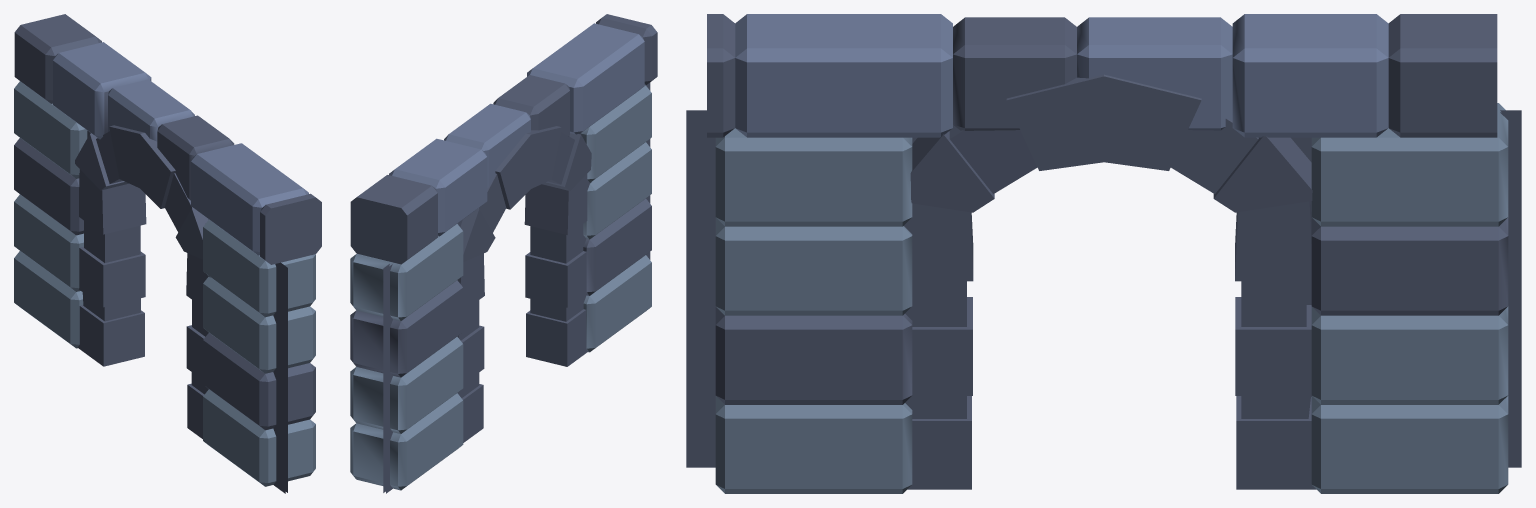
Rendered from door (2).fbx.
3 renders of one model, left to right at view 1: azimuth 30°, elevation 25°; view 2: azimuth 150°, elevation 25°; view 3: azimuth 270°, elevation 25°, orthographic. The views are drawn at different scales.
Visible parts, largest first — view 1: door arc.001; view 2: door arc.001; view 3: door arc.001.
Boxes of the visible parts, <box> form: door arc.001: <box>14,14,321,493</box>; door arc.001: <box>350,14,657,493</box>; door arc.001: <box>686,14,1521,493</box>.
Size of the model in its own units: 78.92 by 376 by 639.
